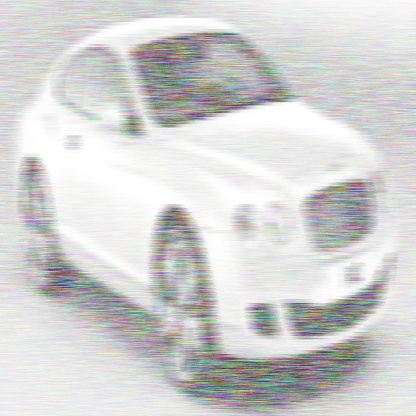Vehicle: (14, 22, 402, 412)
